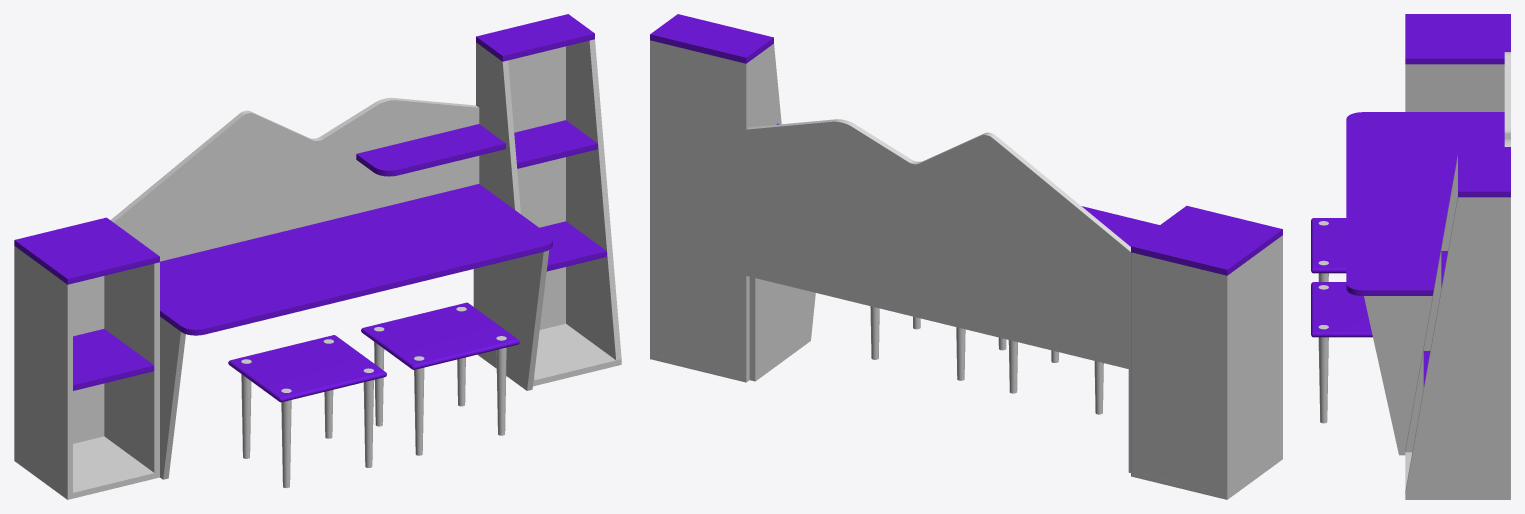
The model's file is 3D_kidsfurniture_2.fbx.
3 views of the same model, side by side, from view 1: azimuth 30°, elevation 25°; view 2: azimuth 150°, elevation 25°; view 3: azimuth 270°, elevation 25° (orthographic). The views are drawn at different scales.
Parts seen in each view (by area): view 1: table back, table leg l.001, short bookcase p1, tall bookcase p2, table leg l, tall bookcase p2.001, Plane.002, Plane.003, short bookcase p1.001, Plane, short bookcase p1.002, Circle (+1 smaller); view 2: table back, short bookcase p1, tall bookcase p2, short bookcase p1.001, table leg l, tall bookcase p2.001, table leg l.001, Circle.002, Circle; view 3: tall bookcase p2, table leg l.001, table leg l, short bookcase p1.001, short bookcase p1, tall bookcase p2.001, Plane.003, Plane.002, Circle.002, table back.
Part boxes in pixels (x1=…): table back: x1=110, y1=97, x2=479, y2=261; table leg l.001: x1=160, y1=184, x2=552, y2=335; short bookcase p1: x1=14, y1=246, x2=159, y2=499; tall bookcase p2: x1=476, y1=39, x2=621, y2=386; table leg l: x1=160, y1=250, x2=549, y2=479; tall bookcase p2.001: x1=476, y1=14, x2=606, y2=271; Plane.002: x1=228, y1=335, x2=386, y2=402; Plane.003: x1=361, y1=302, x2=519, y2=369; short bookcase p1.001: x1=14, y1=217, x2=159, y2=284; Plane: x1=356, y1=124, x2=505, y2=176; short bookcase p1.002: x1=73, y1=329, x2=154, y2=390; Circle: x1=241, y1=339, x2=373, y2=487; table back: x1=746, y1=119, x2=1130, y2=369; short bookcase p1: x1=1131, y1=235, x2=1282, y2=499; tall bookcase p2: x1=650, y1=40, x2=781, y2=382; short bookcase p1.001: x1=1131, y1=205, x2=1282, y2=275; table leg l: x1=749, y1=277, x2=1130, y2=472; tall bookcase p2.001: x1=650, y1=14, x2=773, y2=63; table leg l.001: x1=1081, y1=206, x2=1159, y2=246; Circle.002: x1=870, y1=306, x2=1006, y2=380; Circle: x1=1008, y1=340, x2=1103, y2=413; tall bookcase p2: x1=1405, y1=154, x2=1510, y2=499; table leg l.001: x1=1346, y1=112, x2=1504, y2=295; table leg l: x1=1364, y1=296, x2=1432, y2=455; short bookcase p1.001: x1=1405, y1=14, x2=1510, y2=64; short bookcase p1: x1=1405, y1=64, x2=1504, y2=111; tall bookcase p2.001: x1=1423, y1=147, x2=1510, y2=387; Plane.003: x1=1311, y1=282, x2=1372, y2=337; Plane.002: x1=1311, y1=218, x2=1346, y2=273; Circle.002: x1=1318, y1=285, x2=1328, y2=422; table back: x1=1504, y1=52, x2=1510, y2=146.
Size of the model in its own units: 1.8 by 0.968 by 0.568.
